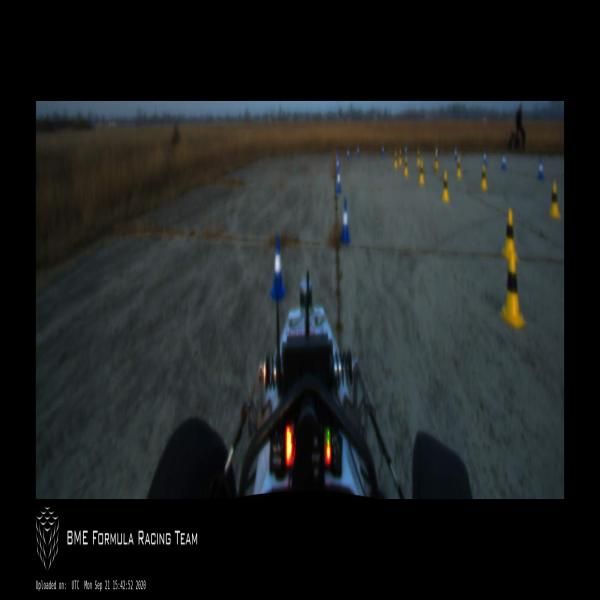blue_cone: (270, 237, 286, 300), (340, 199, 349, 242), (538, 154, 544, 182), (336, 168, 342, 194), (501, 150, 507, 170), (483, 146, 488, 168), (381, 144, 385, 157), (336, 153, 339, 168), (454, 146, 457, 161), (347, 148, 350, 161), (357, 146, 360, 158), (404, 145, 407, 154)
yellow_cone: (500, 252, 526, 330), (503, 209, 519, 264), (548, 183, 561, 222), (442, 172, 449, 202), (480, 166, 487, 192), (418, 161, 425, 187), (456, 157, 462, 180), (404, 158, 409, 178), (434, 152, 439, 172), (394, 147, 398, 169), (399, 146, 402, 168), (417, 148, 420, 168)
